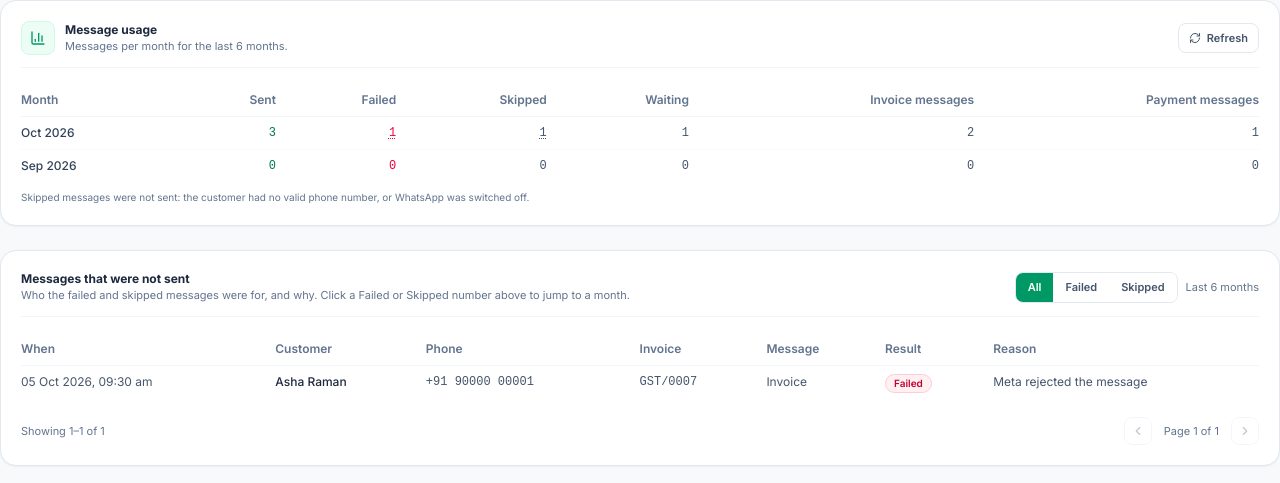
Scenario: WhatsAppUsagePanel › lets you click a Failed count to see whose messages failed that month
The image size is (1280, 483).
Check: the text "Oct 2026" is shown, box [21,116,191,150]
Click the button named "show 1 failed messages for oct 2026": click(393, 133) [389,125,396,141]
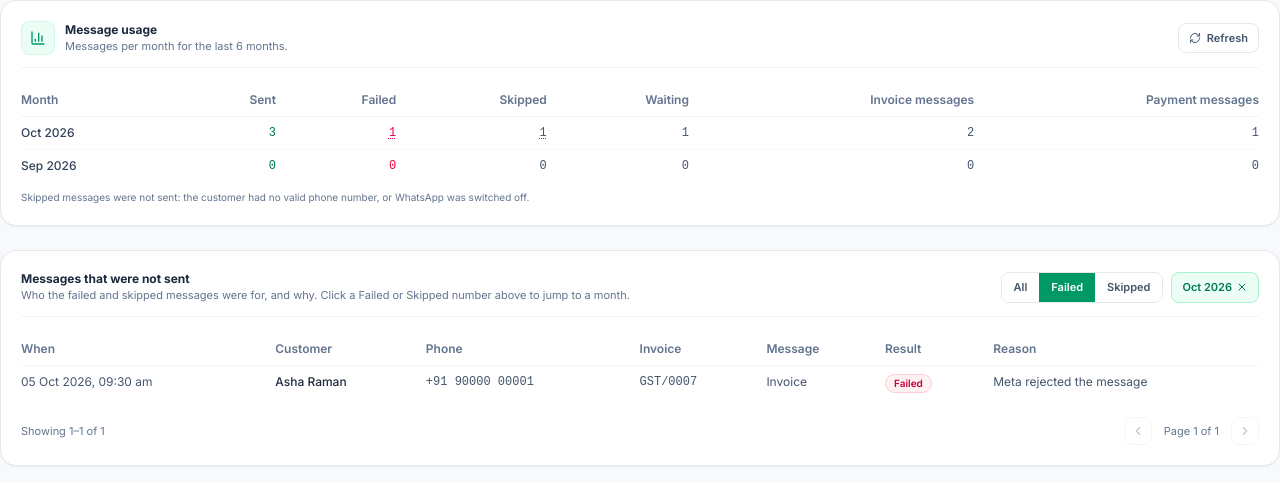
Check: the text "Asha Raman" is shown, box [275,365,426,401]
Check: the button with aria-label "clear month filter oct 2026" is shown, box [1172,272,1259,302]
